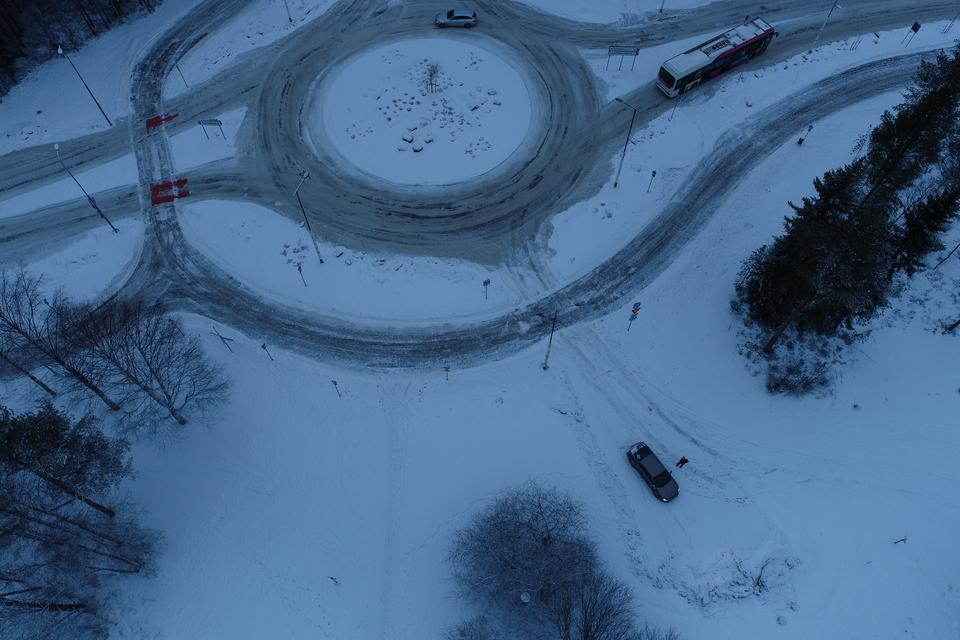intersection: (110, 84, 201, 236)
roundabout: (241, 0, 694, 377)
